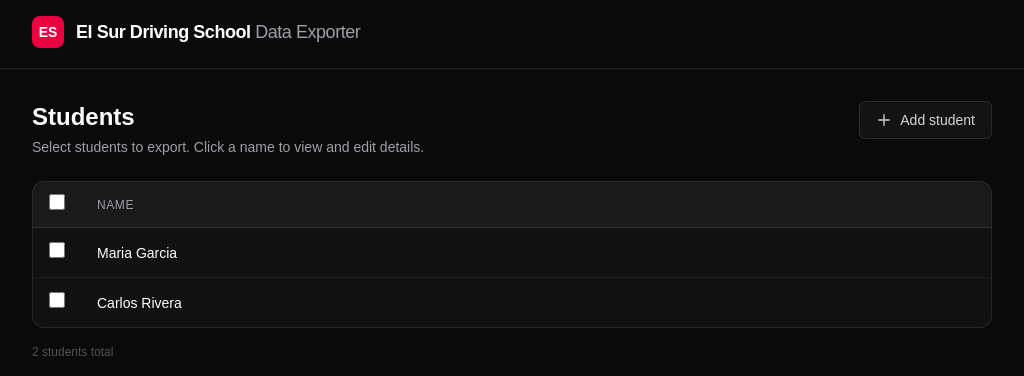
it: Table display › selects all rows with the header checkbox
Expected: the text "Maria Garcia" is shown, x1=81 y1=228 x2=991 y2=278
Click the checkbox named "Select all students": [57, 202] box x1=49 y1=194 x2=65 y2=210
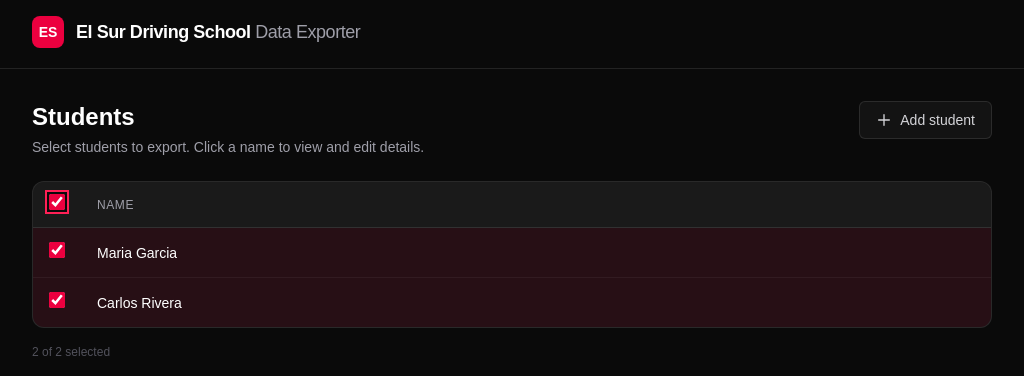
Expected: the text "2 of 2 selected" is shown, x1=32 y1=345 x2=110 y2=359
